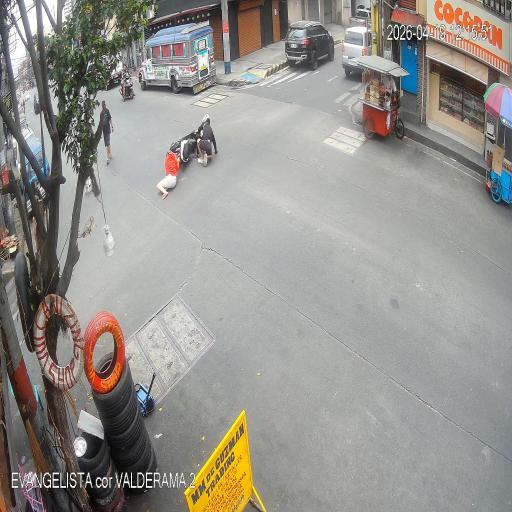Motor: (166, 120, 214, 168)
